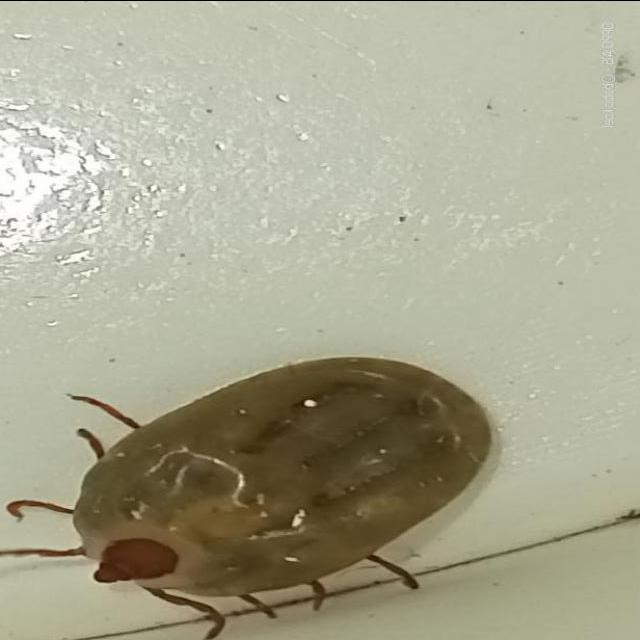Rhipicephalus Sanguineus-F-Fed: (8, 353, 500, 638)
